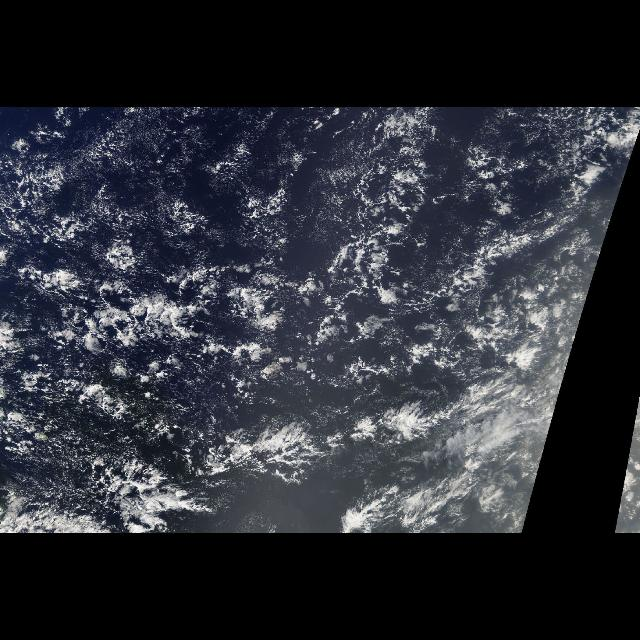Fish: (13, 382, 559, 530)
Flower: (10, 126, 474, 382)
Gravel: (2, 117, 634, 373), (3, 380, 394, 532)
Sugar: (80, 114, 368, 250)
